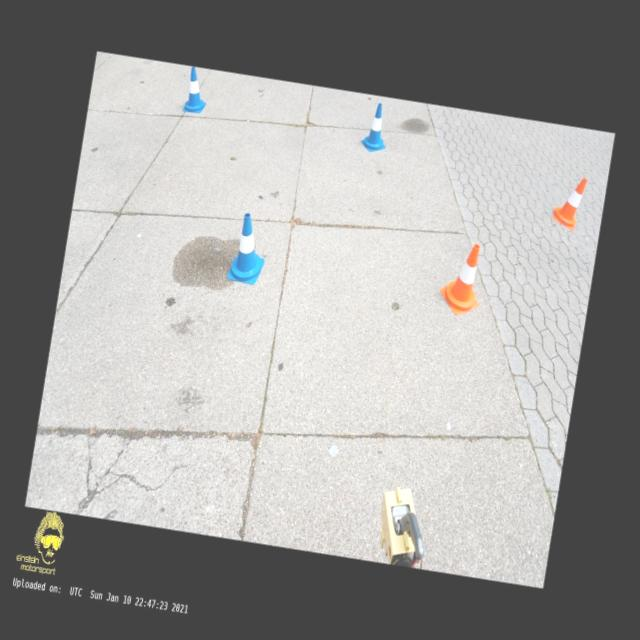blue_cone: (226, 212, 272, 286), (359, 102, 392, 154), (182, 66, 212, 115)
orange_cone: (437, 240, 488, 318), (551, 174, 588, 232)
